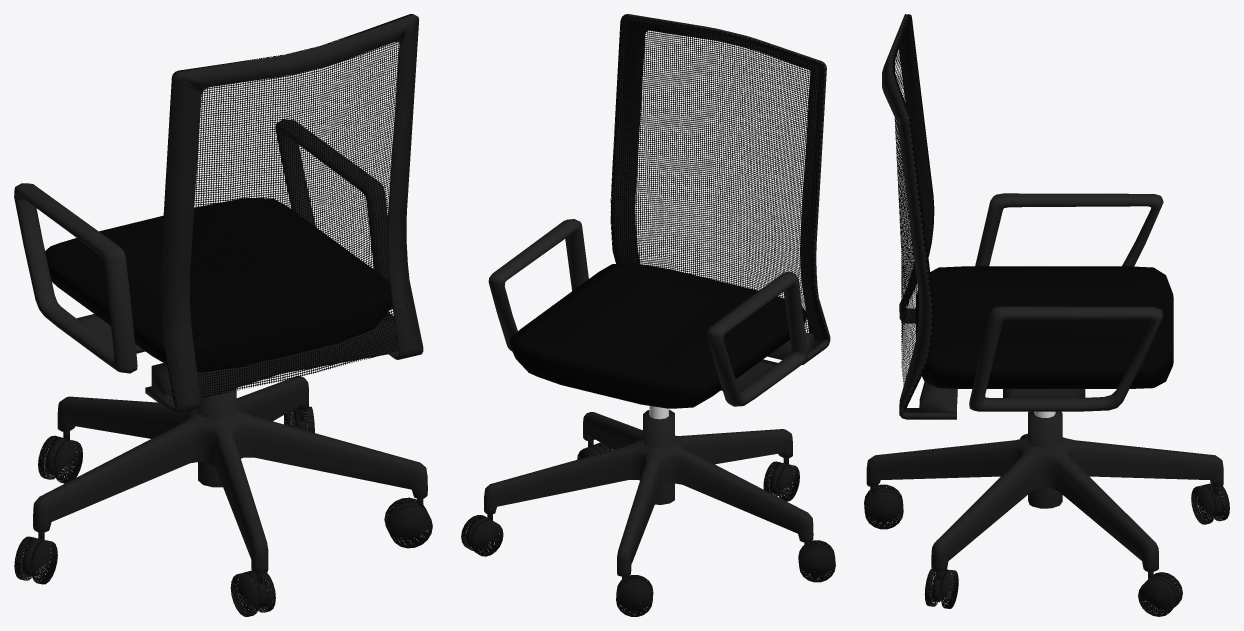
The model's file is office_chair.fbx.
The picture shows the model from 3 angles, left to right: view 1: azimuth 30°, elevation 25°; view 2: azimuth 150°, elevation 25°; view 3: azimuth 270°, elevation 25°; orthographic projection. The views are drawn at different scales.
Visible parts, largest first — view 1: Fabric.002, Middle_Fabric.001, Back.002, Chair, Middle.002, Roue02.002, Roue04.002, Roue05.002, Roue01.002, Roue03.002; view 2: Fabric.002, Middle_Fabric.001, Chair, Back.002, Middle.002, Roue03.002, Roue05.002, Roue04.002, Roue01.002; view 3: Middle_Fabric.001, Chair, Middle.002, Back.002, Fabric.002, Roue03.002, Roue01.002, Roue04.002, Roue02.002.
Boxes of the visible parts, bbox=[...] form: Fabric.002: bbox=[160, 14, 414, 405]; Middle_Fabric.001: bbox=[45, 198, 391, 371]; Back.002: bbox=[145, 15, 423, 414]; Chair: bbox=[33, 376, 427, 573]; Middle.002: bbox=[14, 119, 392, 373]; Roue02.002: bbox=[384, 497, 432, 548]; Roue04.002: bbox=[38, 431, 82, 483]; Roue05.002: bbox=[14, 532, 57, 584]; Roue01.002: bbox=[230, 570, 275, 616]; Roue03.002: bbox=[284, 406, 314, 432]; Fabric.002: bbox=[610, 15, 828, 339]; Middle_Fabric.001: bbox=[509, 263, 807, 408]; Chair: bbox=[484, 409, 813, 576]; Back.002: bbox=[611, 14, 830, 364]; Middle.002: bbox=[488, 219, 808, 419]; Roue03.002: bbox=[461, 514, 503, 556]; Roue05.002: bbox=[798, 540, 835, 582]; Roue04.002: bbox=[616, 575, 653, 616]; Roue01.002: bbox=[763, 458, 799, 501]; Middle_Fabric.001: bbox=[916, 266, 1173, 388]; Chair: bbox=[866, 411, 1223, 572]; Middle.002: bbox=[969, 193, 1163, 417]; Back.002: bbox=[882, 14, 957, 419]; Fabric.002: bbox=[891, 14, 934, 411]; Roue03.002: bbox=[1138, 572, 1182, 616]; Roue01.002: bbox=[864, 484, 903, 529]; Roue04.002: bbox=[1191, 483, 1229, 524]; Roue02.002: bbox=[924, 569, 958, 608].
Bounding box in the file's own units: 214 × 301 × 206.
